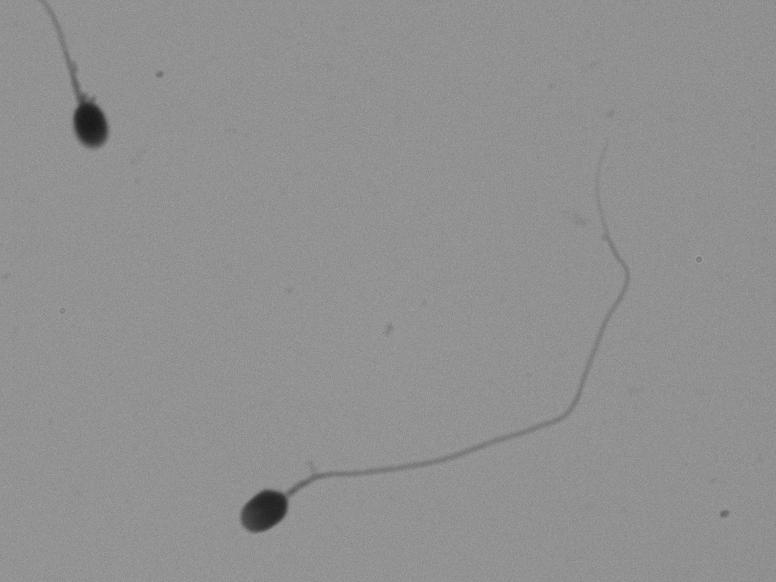Normal: (210, 154, 681, 565)
